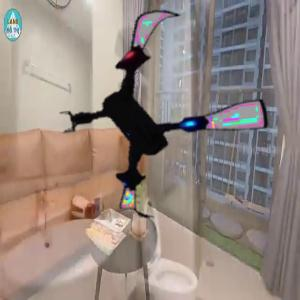drone: (58, 6, 274, 222)
